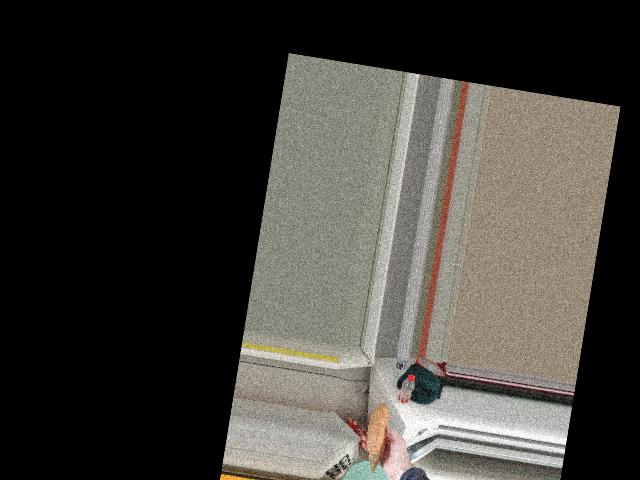sweet_potato: (366, 410, 395, 461)
